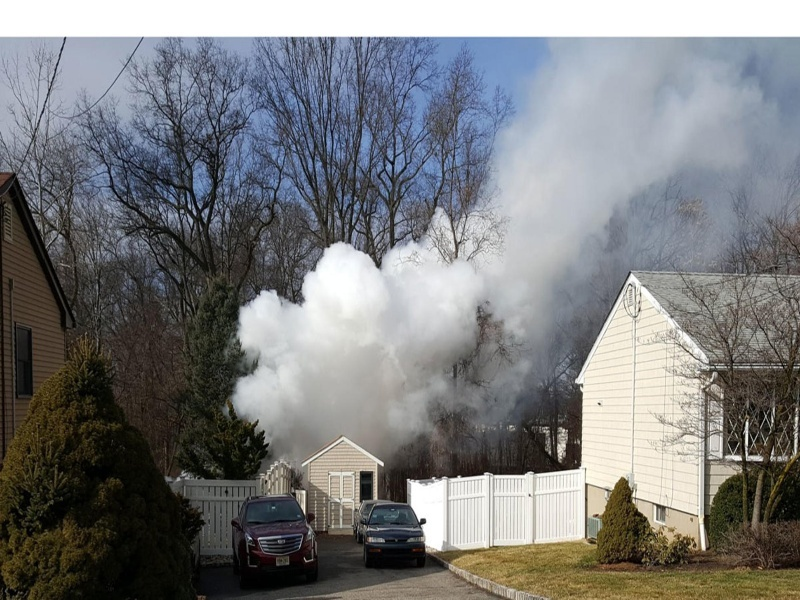smoke: (236, 241, 463, 468)
